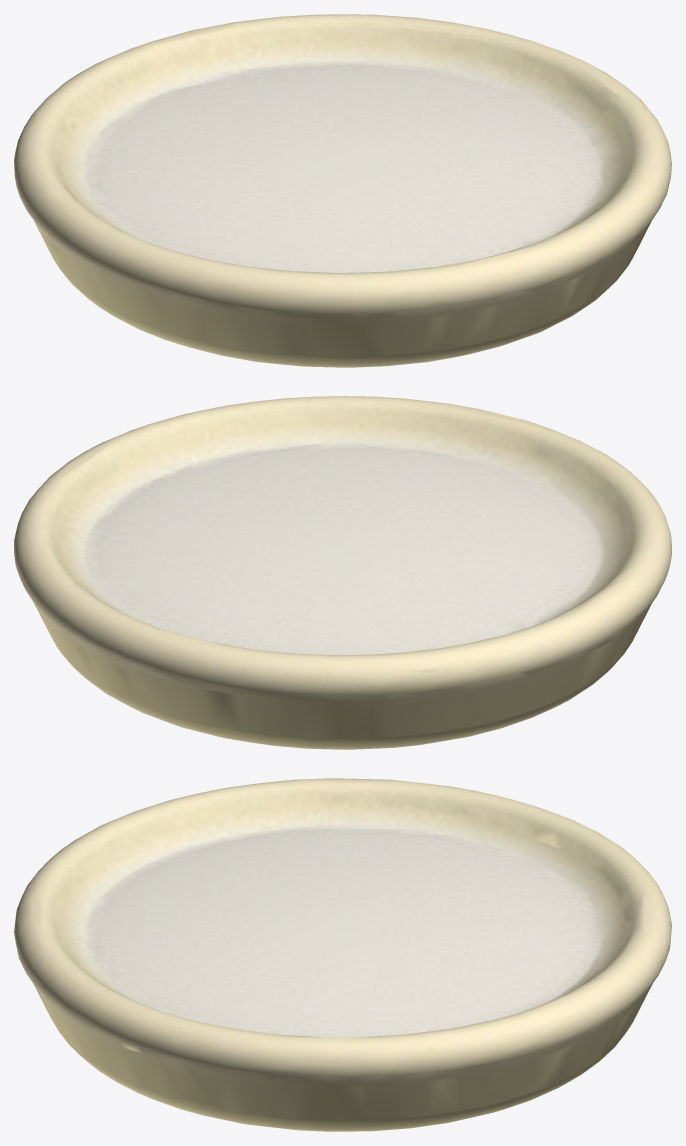
Rendered from milk_bowl.glb.
3 renders of one model, top to bottom at view 1: azimuth 30°, elevation 25°; view 2: azimuth 150°, elevation 25°; view 3: azimuth 270°, elevation 25°, orthographic.
Parts seen in each view (by area): view 1: milk_bowl.001; view 2: milk_bowl.001; view 3: milk_bowl.001.
Part boxes in pixels (left/top/right/bottom): milk_bowl.001: left=14, top=14, right=671, bottom=367; milk_bowl.001: left=14, top=396, right=671, bottom=749; milk_bowl.001: left=14, top=778, right=671, bottom=1131.
Size of the model in its own units: 0.1998 by 0.038 by 0.1999.
1 material, 1 textured.
